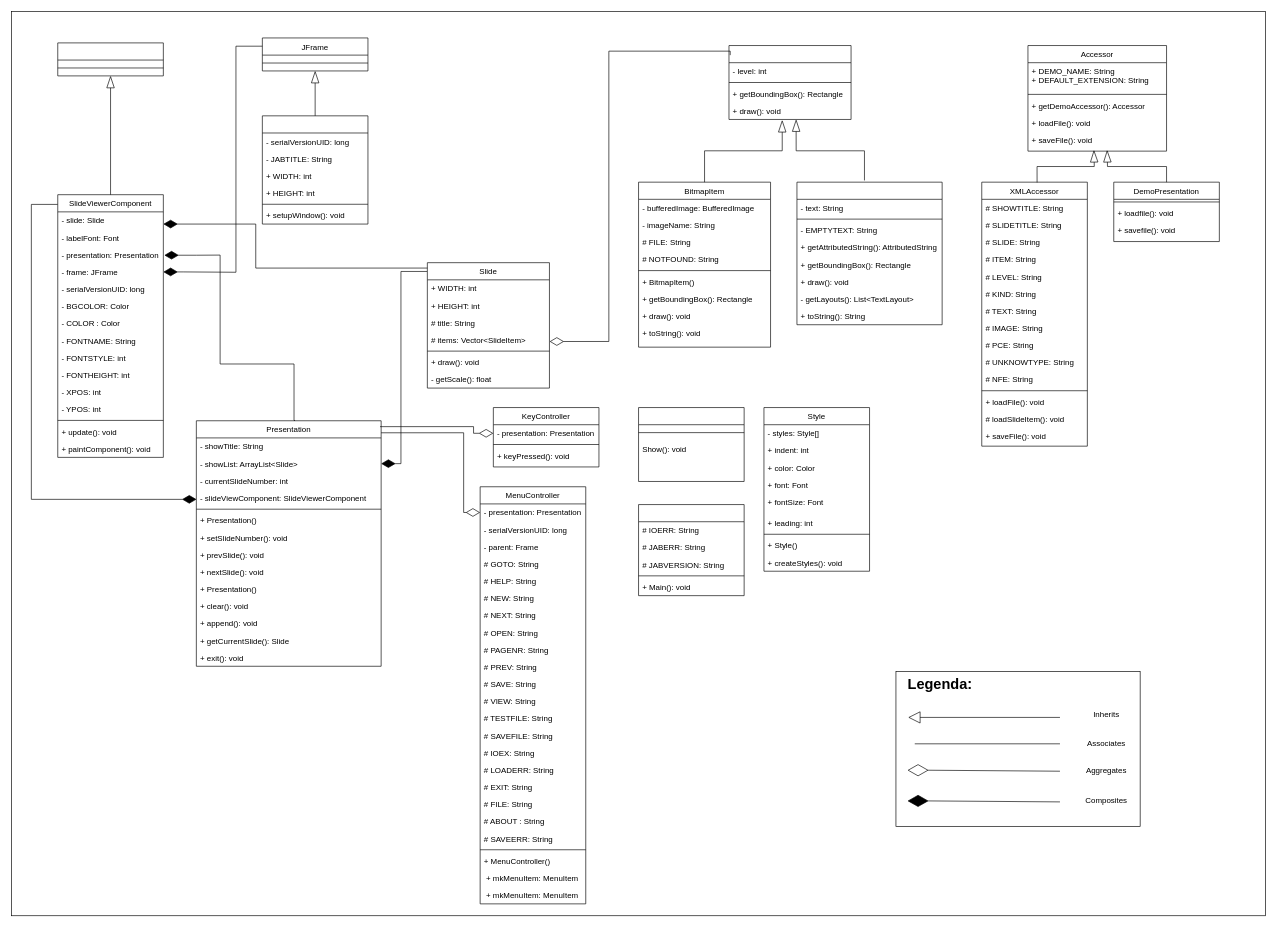
This 1277x927 diagram has some shape labels left out. Each missing label, with the box of its shape:
AboutBox: (638, 407, 744, 481)
Jabberpoint: (638, 504, 744, 596)
JComponent: (57, 42, 163, 76)
Slideitem: (728, 45, 851, 119)
SliderViewerFrame: (262, 115, 368, 224)
TextItem: (796, 182, 942, 325)
